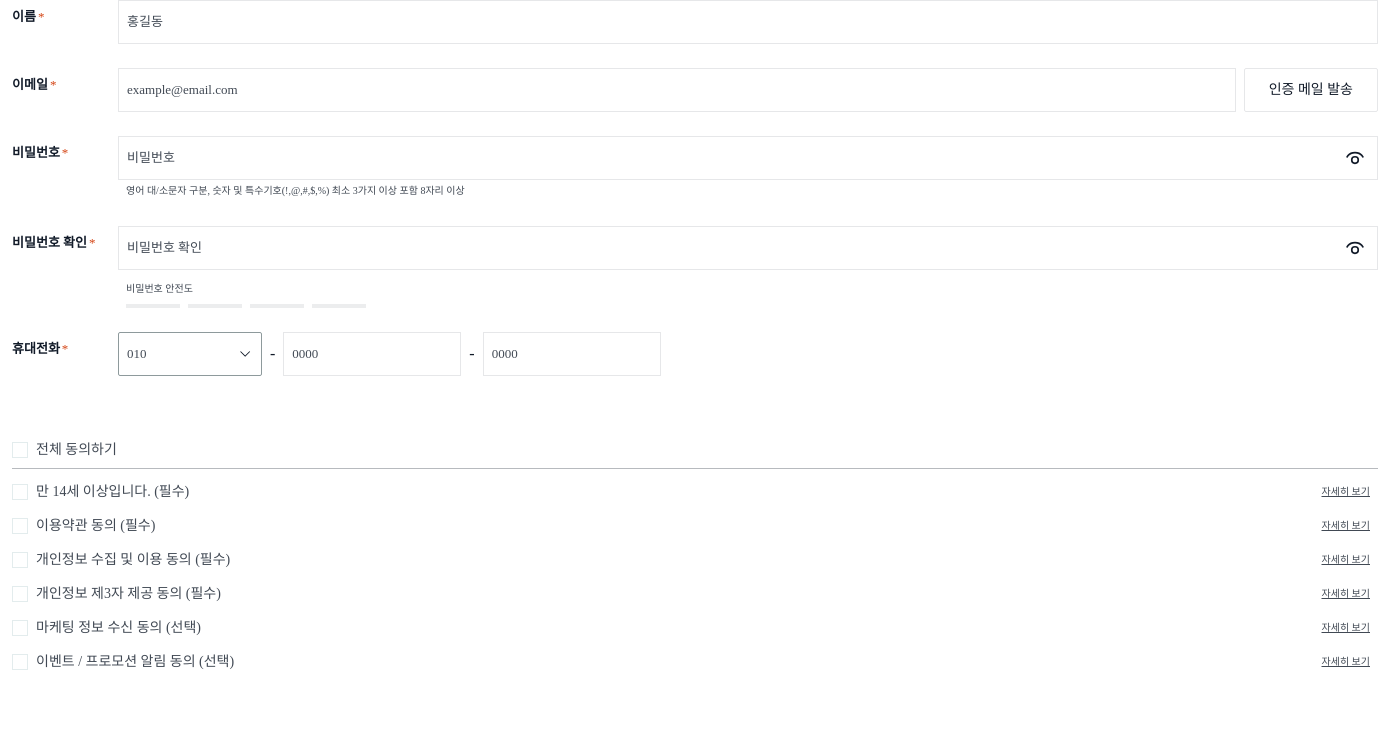
Test: SignupInfoForm › 빈 이메일로 인증 메일 발송을 누르면 필수값 에러를 보여준다
Click the button "인증 메일 발송" at [1311, 90], box [1244,68,1378,112]
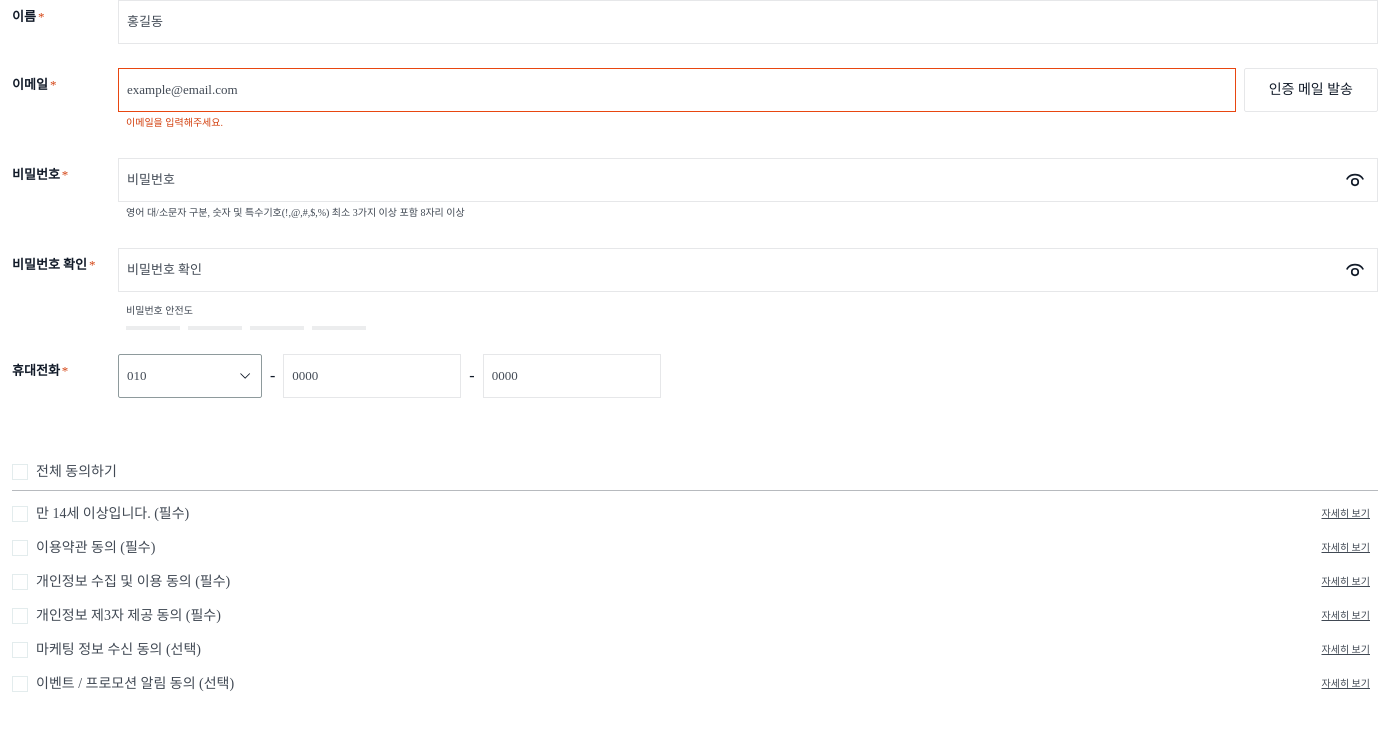
expect the text "이메일을 입력해주세요." is shown: met, box [126,117,223,128]
